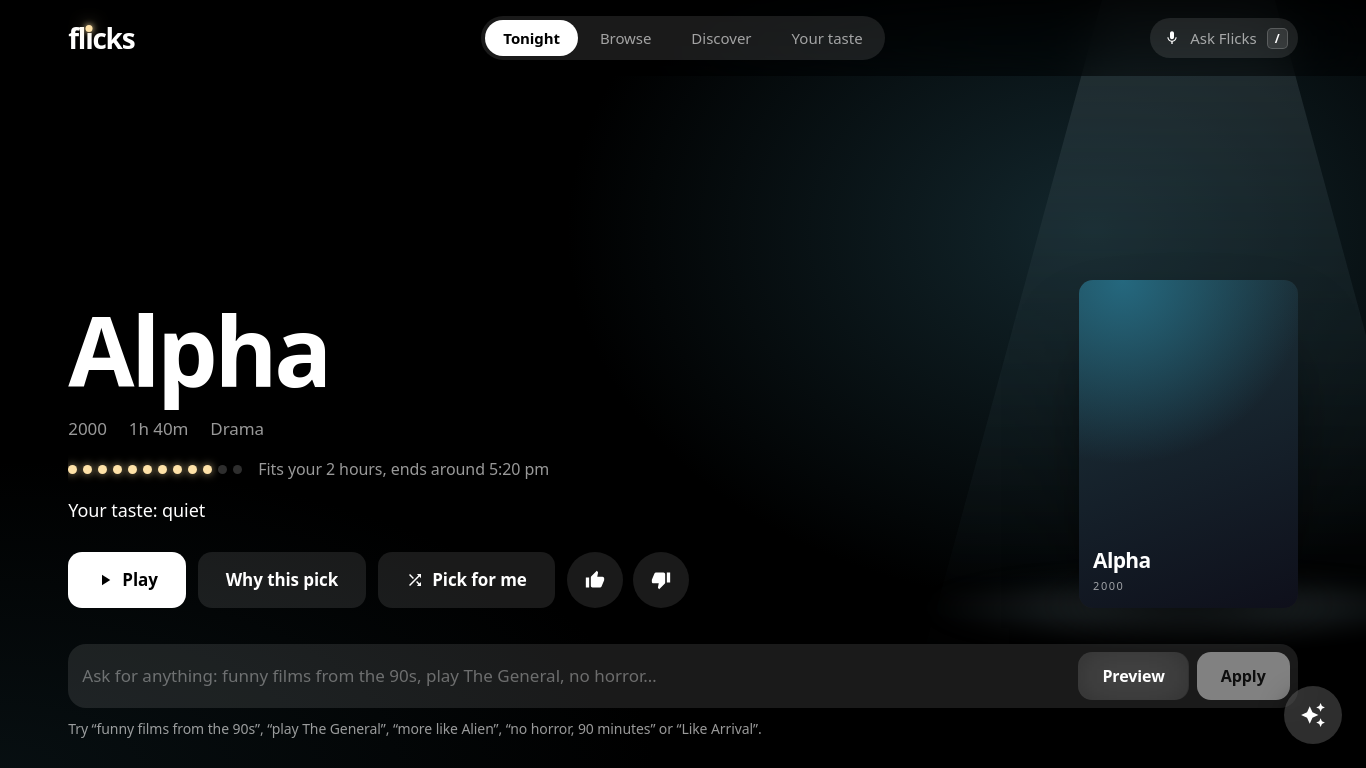
Test: “more like” lists similar titles, and can go back to search
This screenshot has width=1366, height=768.
Type "more like alpha" into the text box named "Ask Flicks" at coordinates (573, 676), box 76,654 -> 1070,698
Then press Enter
(page scrolled)
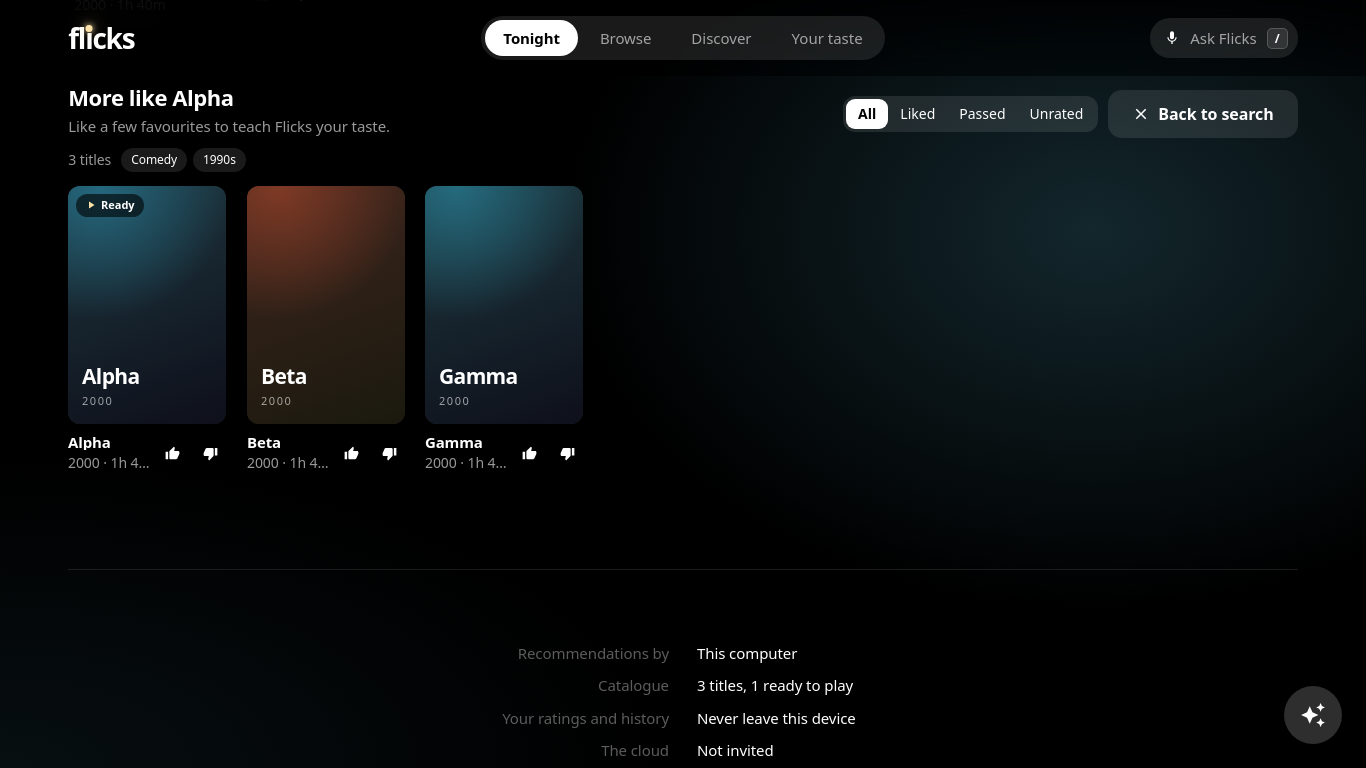
Check: the heading "More like Alpha" is shown, box 68,82 -> 234,112
Click the button "Back to search" at coordinates (1203, 114), box 1108,90 -> 1298,138
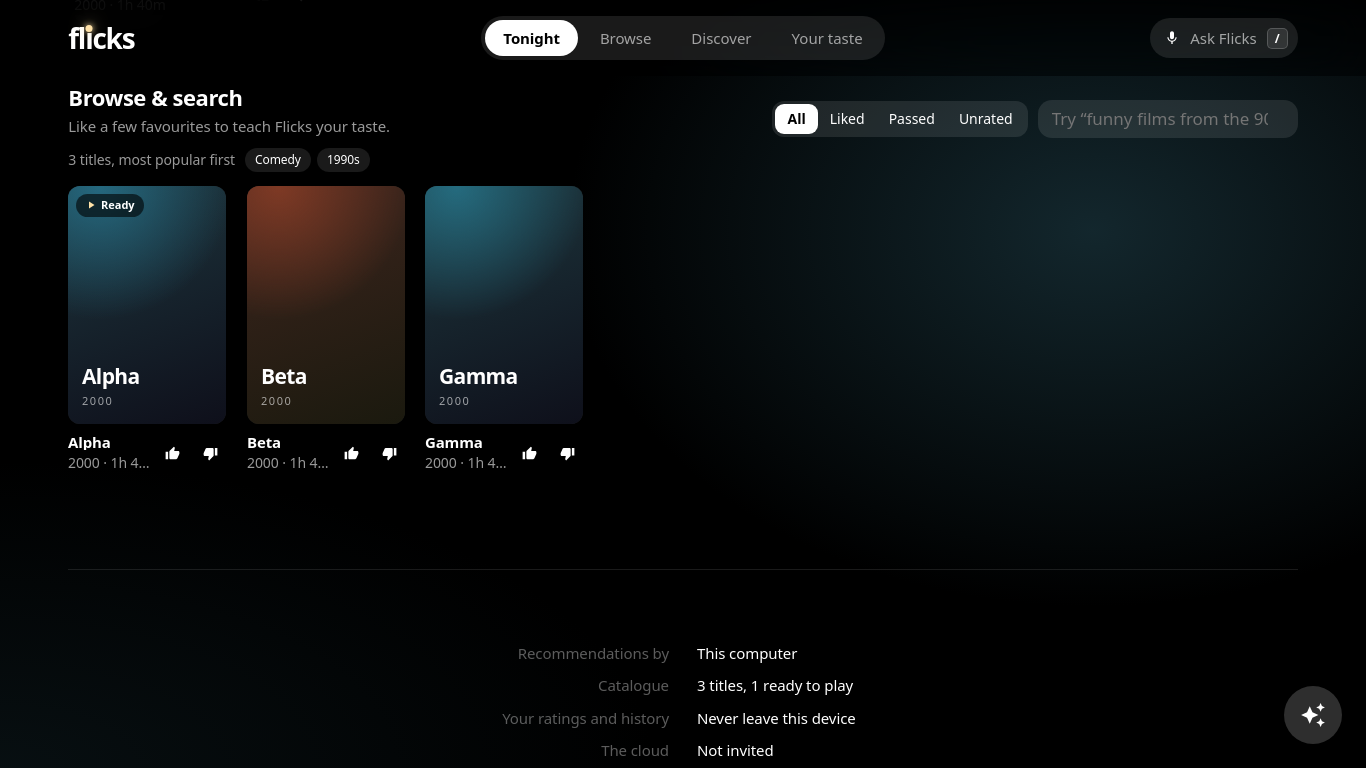
Check: the heading "Browse & search" is shown, box 68,82 -> 242,112
